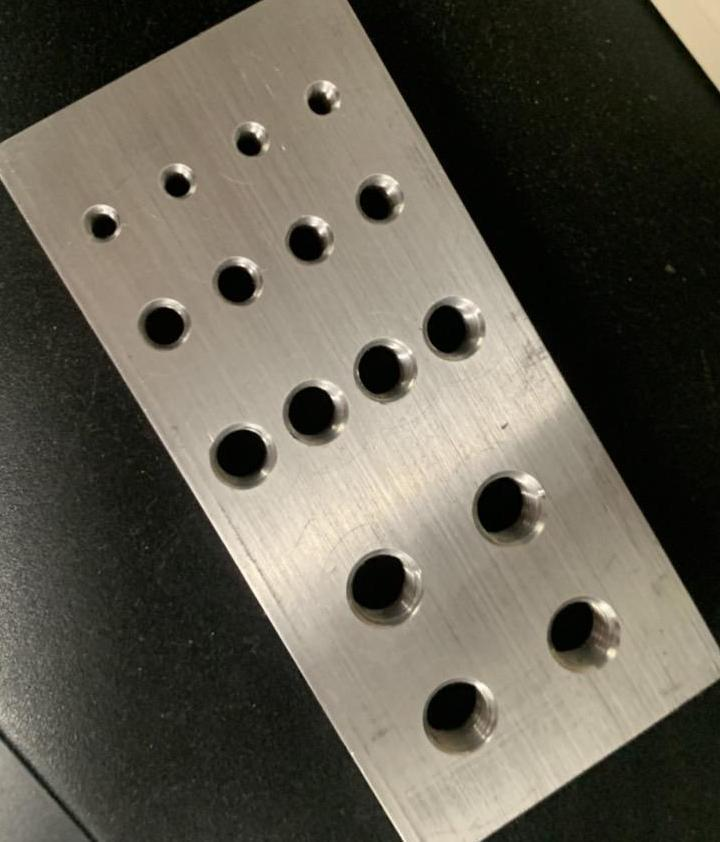hole: (466, 462, 555, 552), (541, 596, 630, 686), (418, 676, 510, 760), (346, 548, 430, 638), (203, 423, 283, 502), (352, 336, 422, 408), (420, 291, 487, 366), (282, 380, 352, 451), (350, 165, 407, 229), (134, 294, 194, 354), (286, 204, 340, 265), (216, 250, 272, 306), (156, 160, 204, 205), (84, 200, 130, 246), (231, 119, 274, 164), (304, 78, 346, 118)
